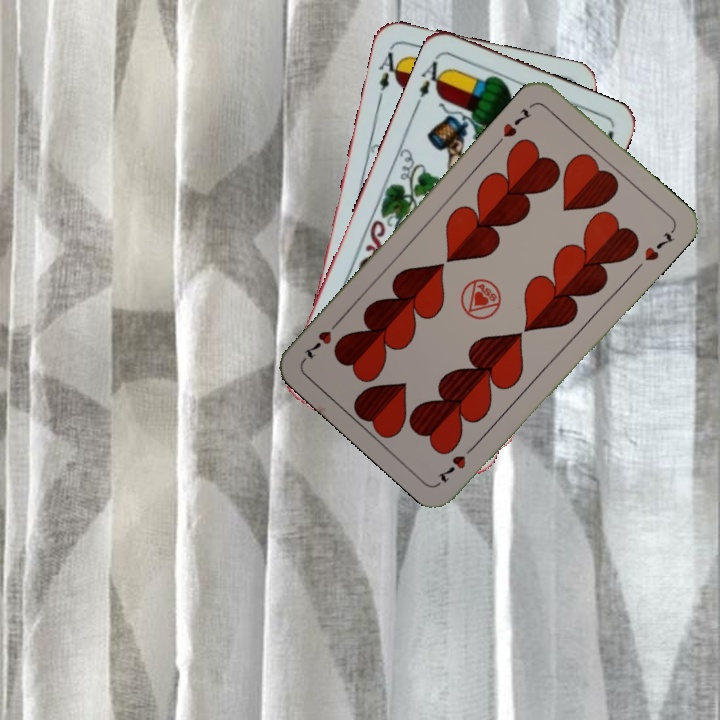EA: (412, 52, 449, 108), (374, 44, 404, 103)
H7: (433, 439, 480, 486), (499, 104, 535, 140)
